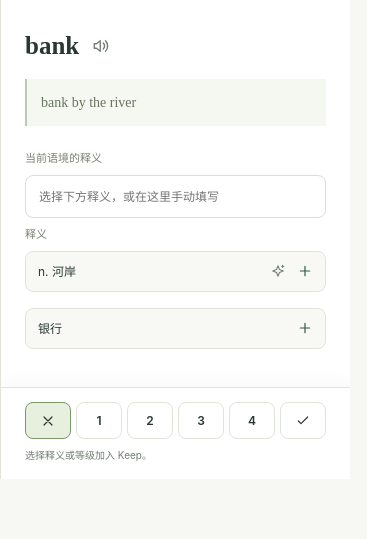
it: speaker playback failures can be retried without changing the selected text
This screenshot has width=367, height=539.
Click the button named "重复发音" at (101, 46), box [87,32,115,60]
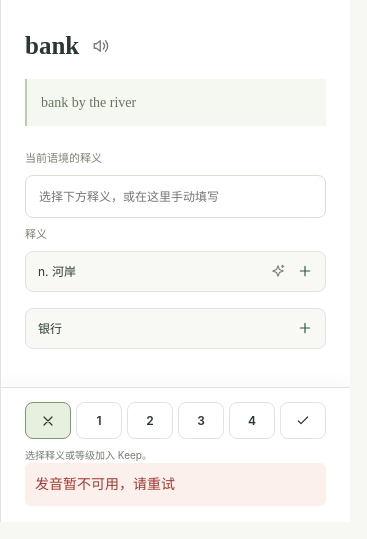
Result: the message "发音暂不可用，请重试" is shown at [25,463,326,506]
Click the button named "重复发音" at (101, 46), box [87,32,115,60]
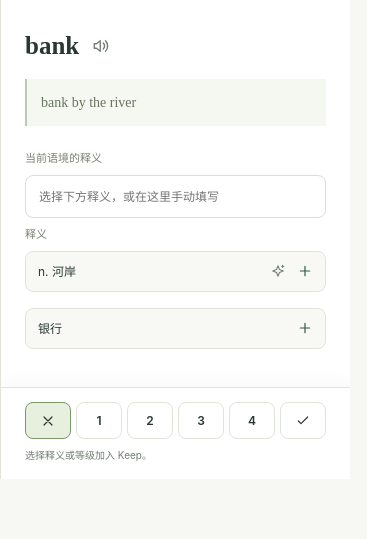
Expected: the heading "bank" is shown, [25,30,79,62]
Result: the message "发音暂不可用，请重试" is gone
